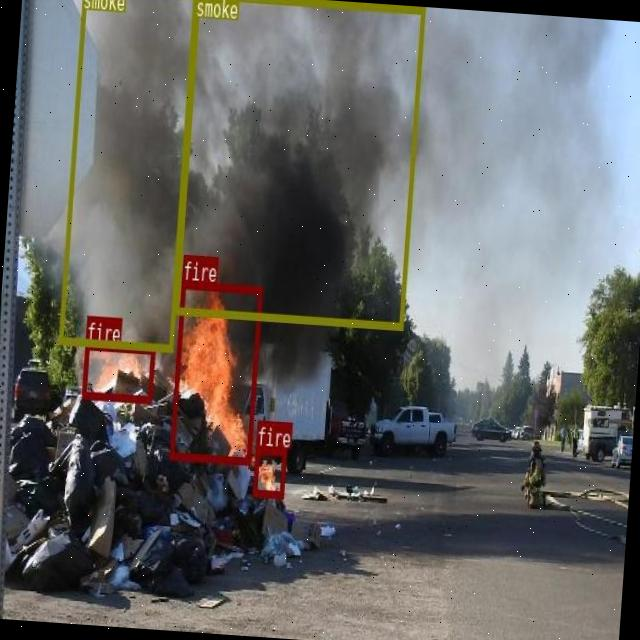fire: (169, 280, 261, 463), (81, 341, 154, 402), (252, 446, 285, 497)
smoke: (173, 0, 423, 328), (57, 0, 196, 350)
